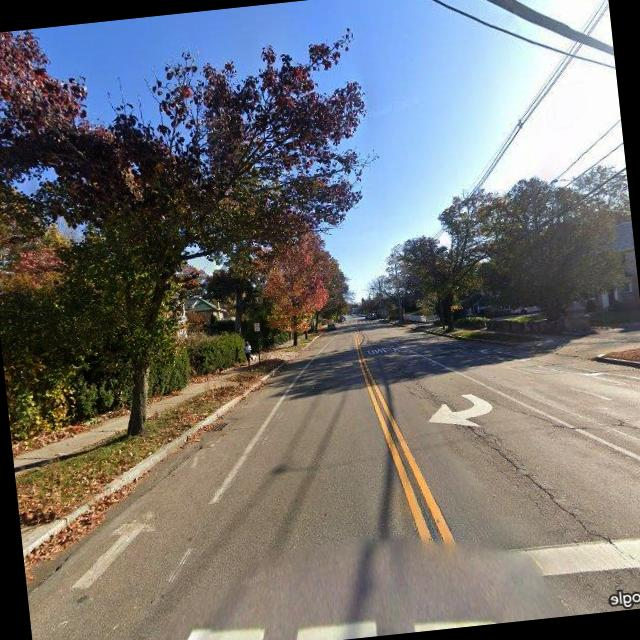pothole: (397, 345, 640, 600)
